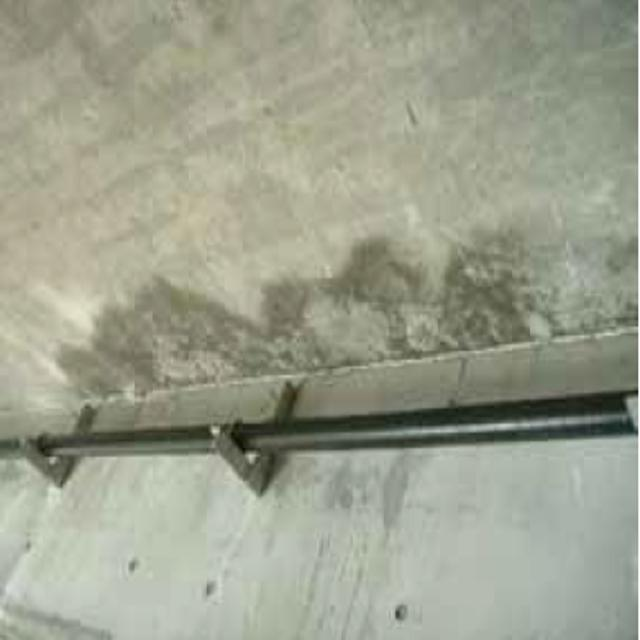leakage: (51, 243, 593, 384)
